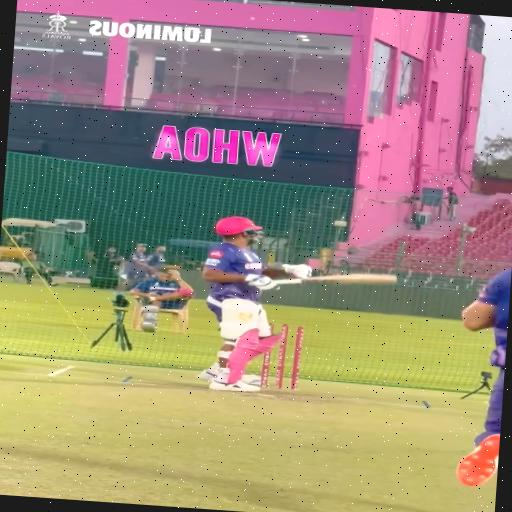Cricket bat: (275, 273, 397, 286)
